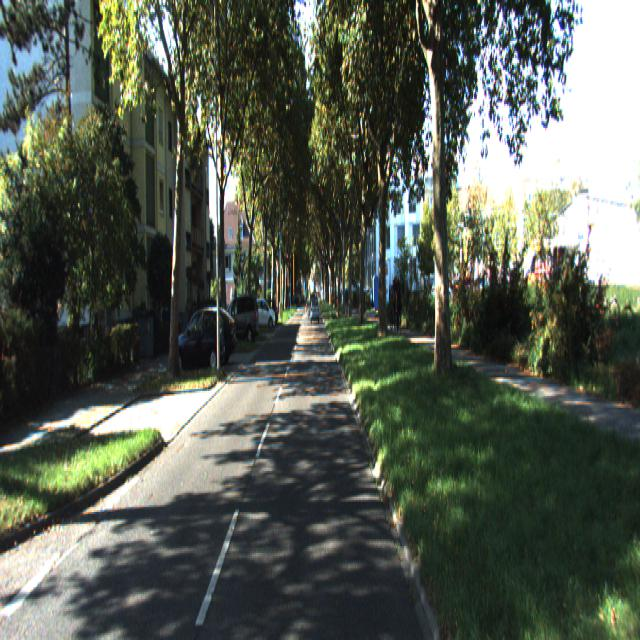Car: (172, 309, 228, 379), (220, 292, 260, 350), (252, 300, 276, 333)
